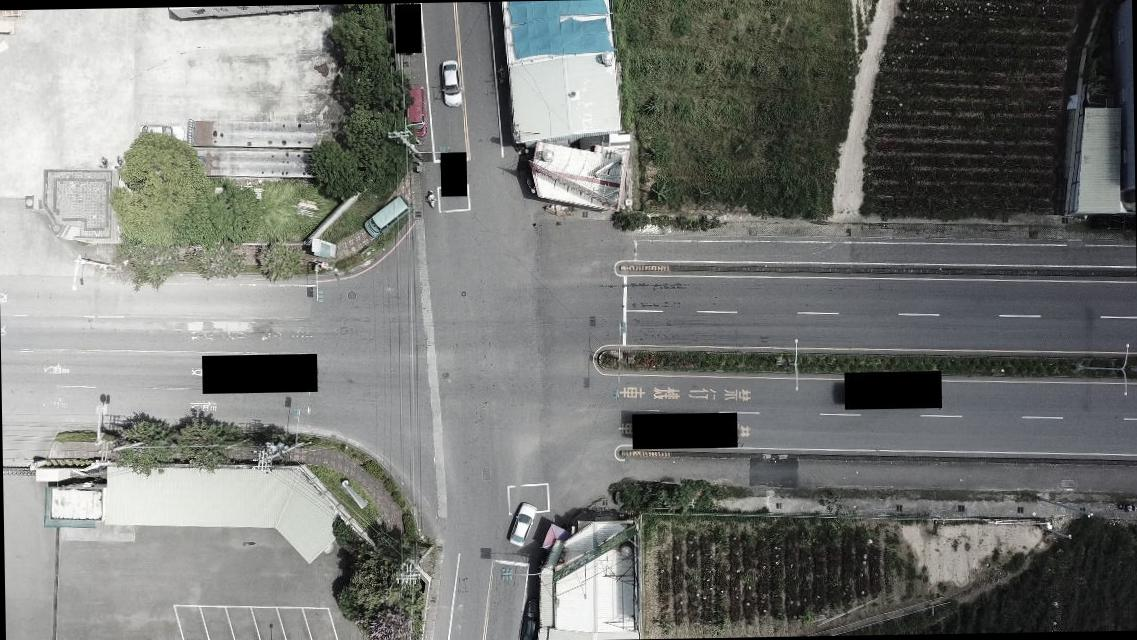vehicle: (364, 195, 410, 238), (398, 83, 430, 142), (506, 501, 538, 552), (438, 56, 466, 107), (518, 592, 543, 639), (139, 126, 184, 150)
